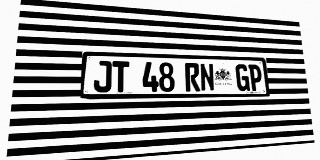4: (142, 62, 159, 92)
8: (159, 62, 175, 92)
G: (235, 64, 250, 91)
J: (93, 61, 112, 92)
N: (199, 63, 215, 91)
P: (248, 64, 263, 91)
R: (185, 63, 200, 92)
T: (112, 61, 129, 92)
